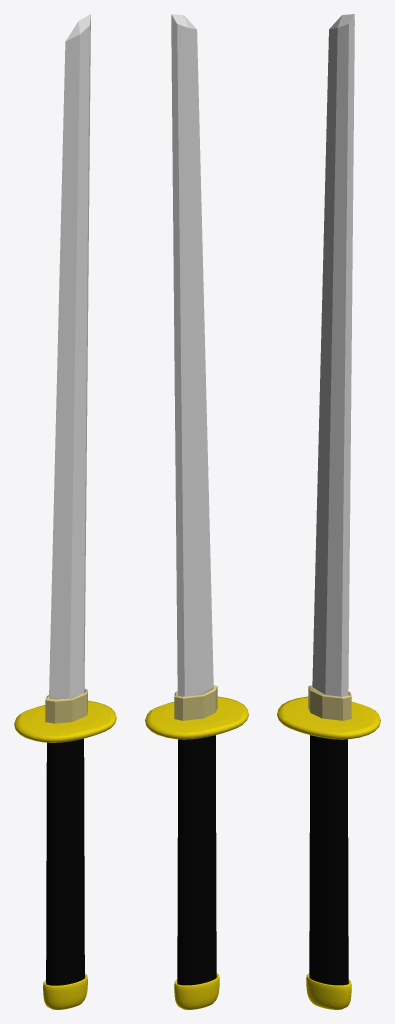
File: katana3.fbx
3 renders of one model, left to right at view 1: azimuth 30°, elevation 25°; view 2: azimuth 210°, elevation 25°; view 3: azimuth 330°, elevation 25°, orthographic.
Parts seen in each view (by area): view 1: knife.001, knife, knife.003, knife.002, knife.004; view 2: knife.001, knife, knife.003, knife.002, knife.004; view 3: knife.001, knife, knife.003, knife.002, knife.004.
Boxes of the visible parts, box(x1,y1,x2,y2) form: knife.001: box(49, 14, 90, 698); knife: box(46, 738, 84, 985); knife.003: box(14, 700, 116, 742); knife.002: box(45, 688, 87, 723); knife.004: box(43, 973, 87, 1009); knife.001: box(171, 14, 213, 696); knife: box(177, 735, 216, 985); knife.003: box(145, 696, 248, 739); knife.002: box(174, 685, 217, 720); knife.004: box(174, 973, 219, 1009); knife.001: box(312, 14, 354, 696); knife: box(309, 735, 348, 985); knife.003: box(277, 696, 380, 739); knife.002: box(308, 685, 351, 720); knife.004: box(306, 973, 351, 1009).
Size of the model in its own units: 50.24 by 510 by 37.5.
